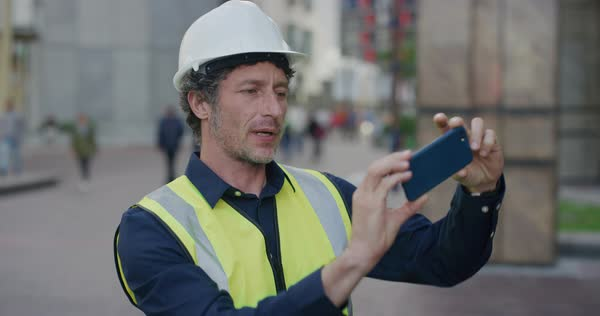Person_wearing_helmet: (160, 2, 303, 109)
